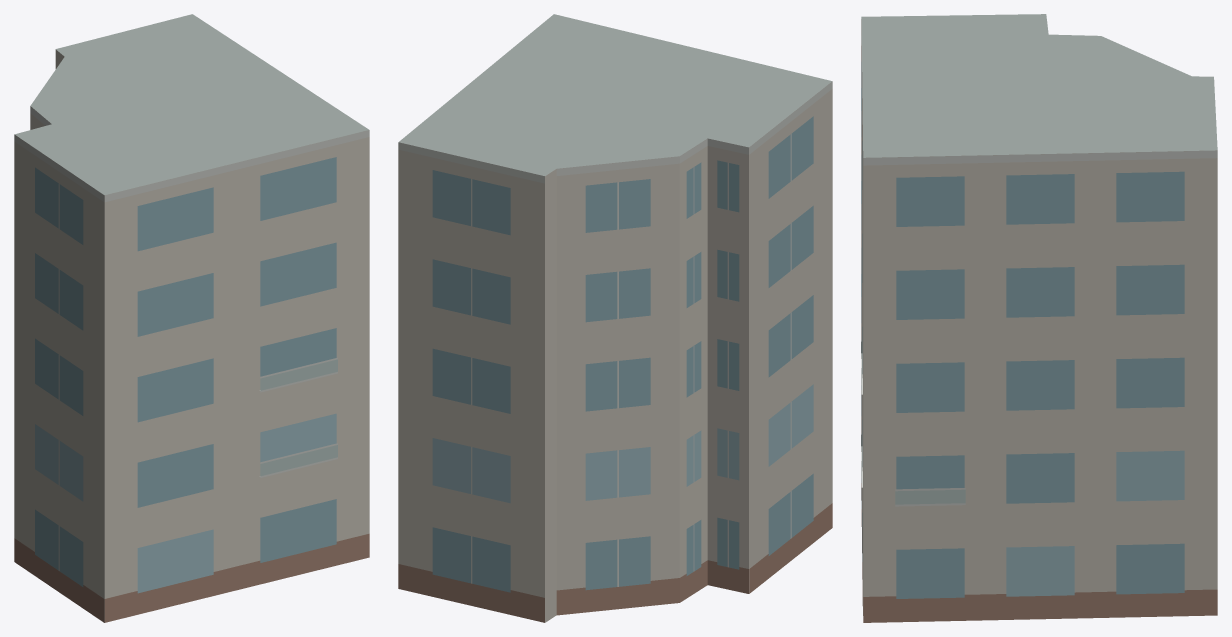
File: survey-upis-32971685.glb
The picture shows the model from 3 angles, left to right: view 1: azimuth 30°, elevation 25°; view 2: azimuth 150°, elevation 25°; view 3: azimuth 270°, elevation 25°; orthographic projection. The views are drawn at different scales.
Visible parts, largest first — view 1: survey-upis-32971685.tmp; view 2: survey-upis-32971685.tmp; view 3: survey-upis-32971685.tmp.
Part boxes in pixels (bbox=[...]): survey-upis-32971685.tmp: bbox=[14, 14, 369, 622]; survey-upis-32971685.tmp: bbox=[398, 14, 832, 622]; survey-upis-32971685.tmp: bbox=[861, 14, 1217, 622].
Bounding box in the file's own units: 9.76 × 14.7 × 10.22.
